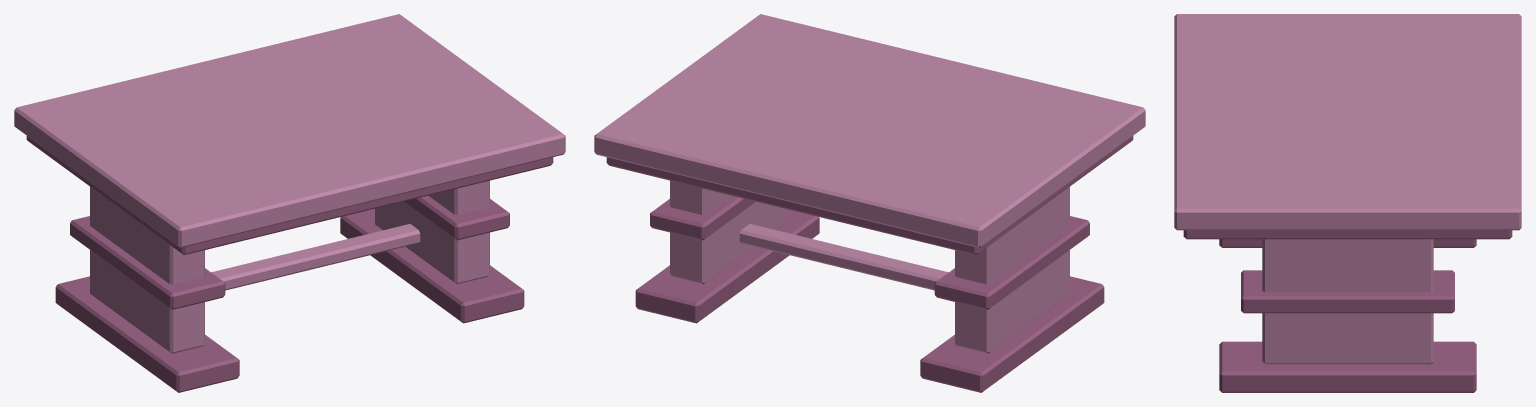
The model's file is pink_dungeon_table_v0.glb.
3 renders of one model, left to right at view 1: azimuth 30°, elevation 25°; view 2: azimuth 150°, elevation 25°; view 3: azimuth 270°, elevation 25°, orthographic. The views are drawn at different scales.
Parts seen in each view (by area): view 1: pink_dungeon_table_v0; view 2: pink_dungeon_table_v0; view 3: pink_dungeon_table_v0.
Boxes of the visible parts, x1,y1,x2,y2 form: pink_dungeon_table_v0: [14, 14, 565, 392]; pink_dungeon_table_v0: [594, 14, 1145, 392]; pink_dungeon_table_v0: [1174, 14, 1521, 392].
Bounding box in the file's own units: 1.96 × 0.9 × 1.46.
